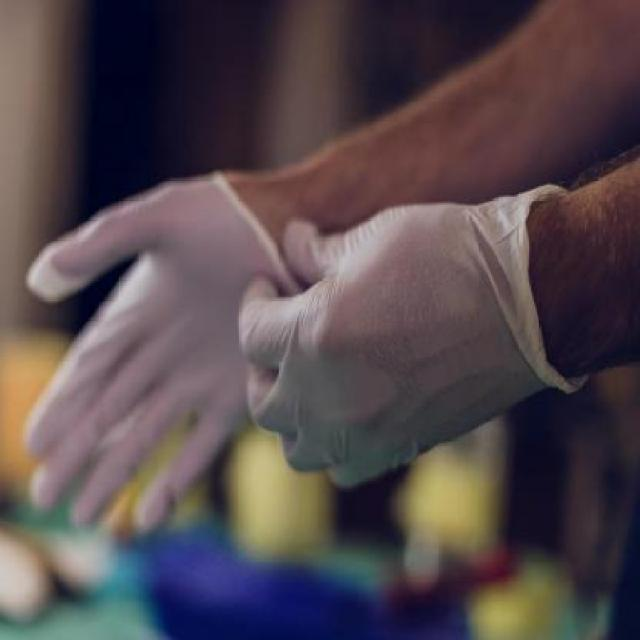glove: (233, 168, 565, 522), (22, 176, 286, 575)
